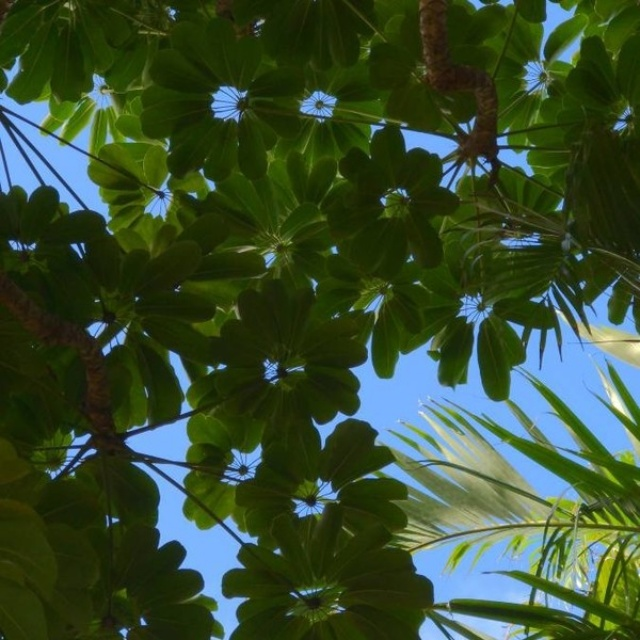obstacle: (105, 35, 407, 592), (415, 374, 631, 623)
